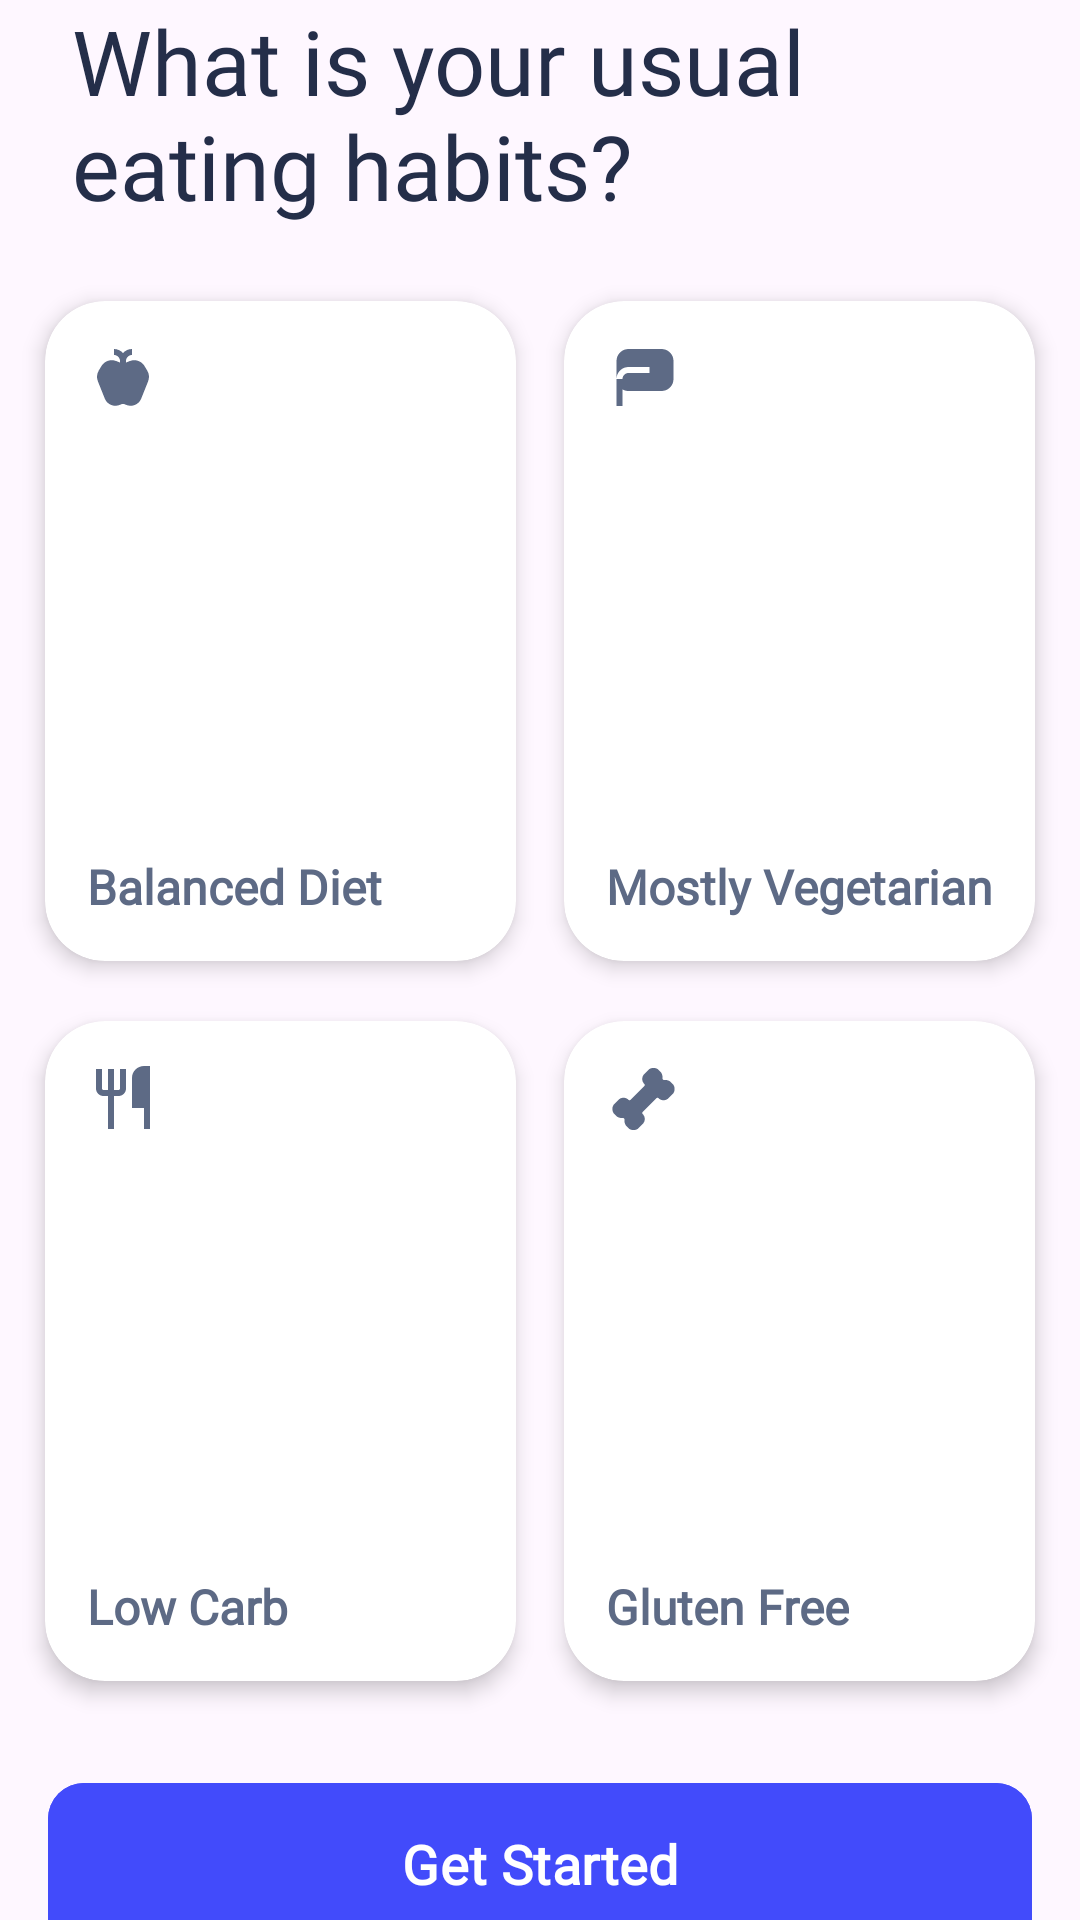

Icons on this 1080 x 1920 Android screen, each with the point to tap as (x=x, y=y):
apple: (x=123, y=377)
bone: (x=643, y=1099)
dinner: (x=123, y=1097)
